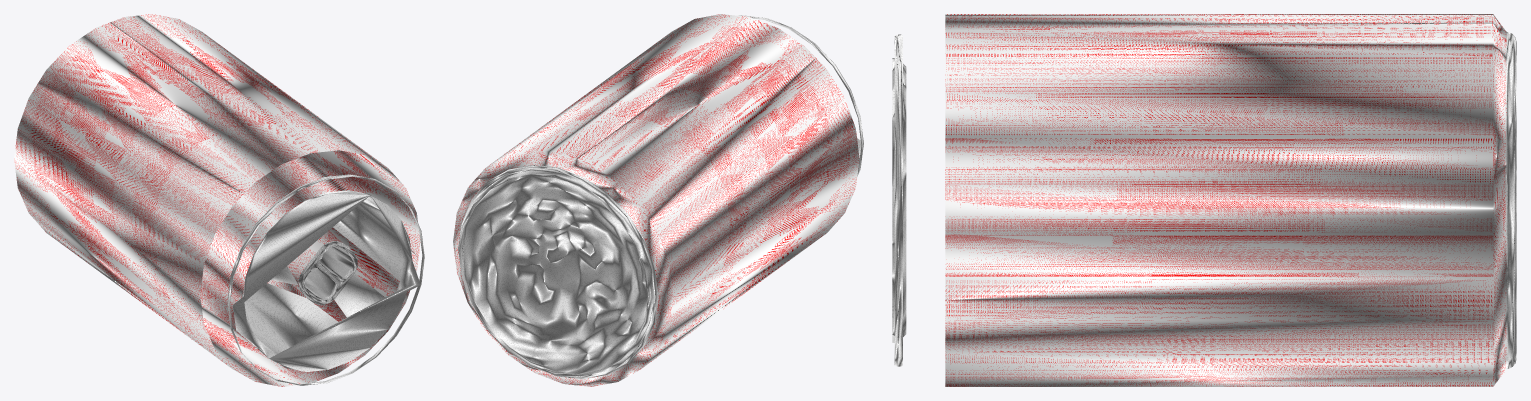
The model's file is model_align.obj.
3 renders of one model, left to right at view 1: azimuth 30°, elevation 25°; view 2: azimuth 150°, elevation 25°; view 3: azimuth 270°, elevation 25°, orthographic. The views are drawn at different scales.
Size of the model in its own units: 0.0746 by 0.0746 by 0.1244.
